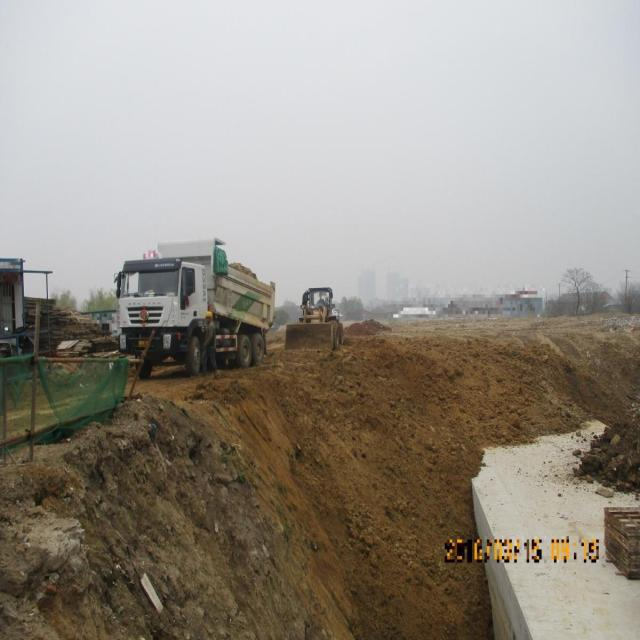machinery: (281, 281, 347, 359)
truck: (103, 233, 281, 382)
